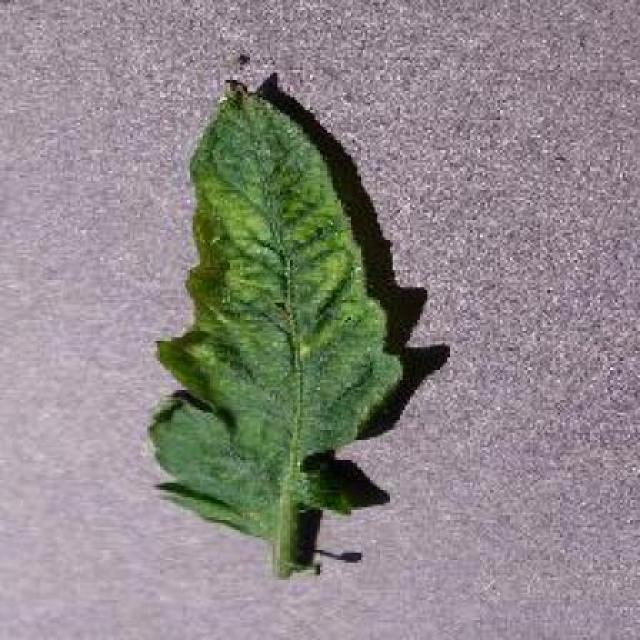Mosaic Virus: (143, 74, 407, 540)
